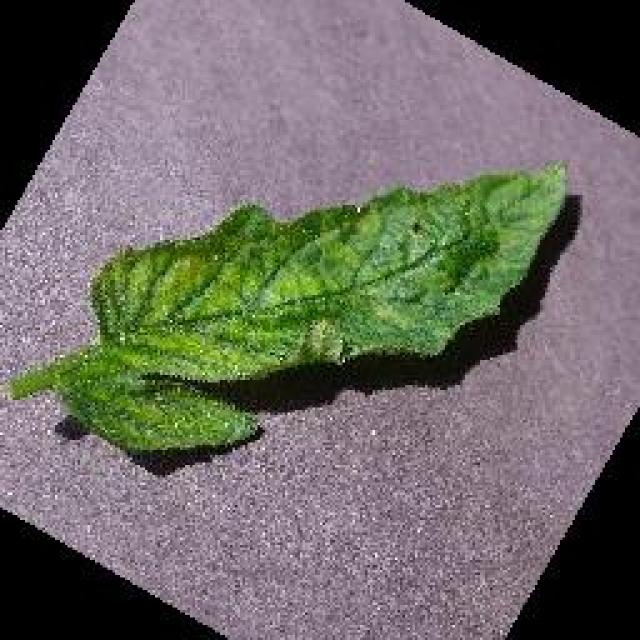Tomato___Tomato_mosaic_virus: (8, 165, 560, 452)
